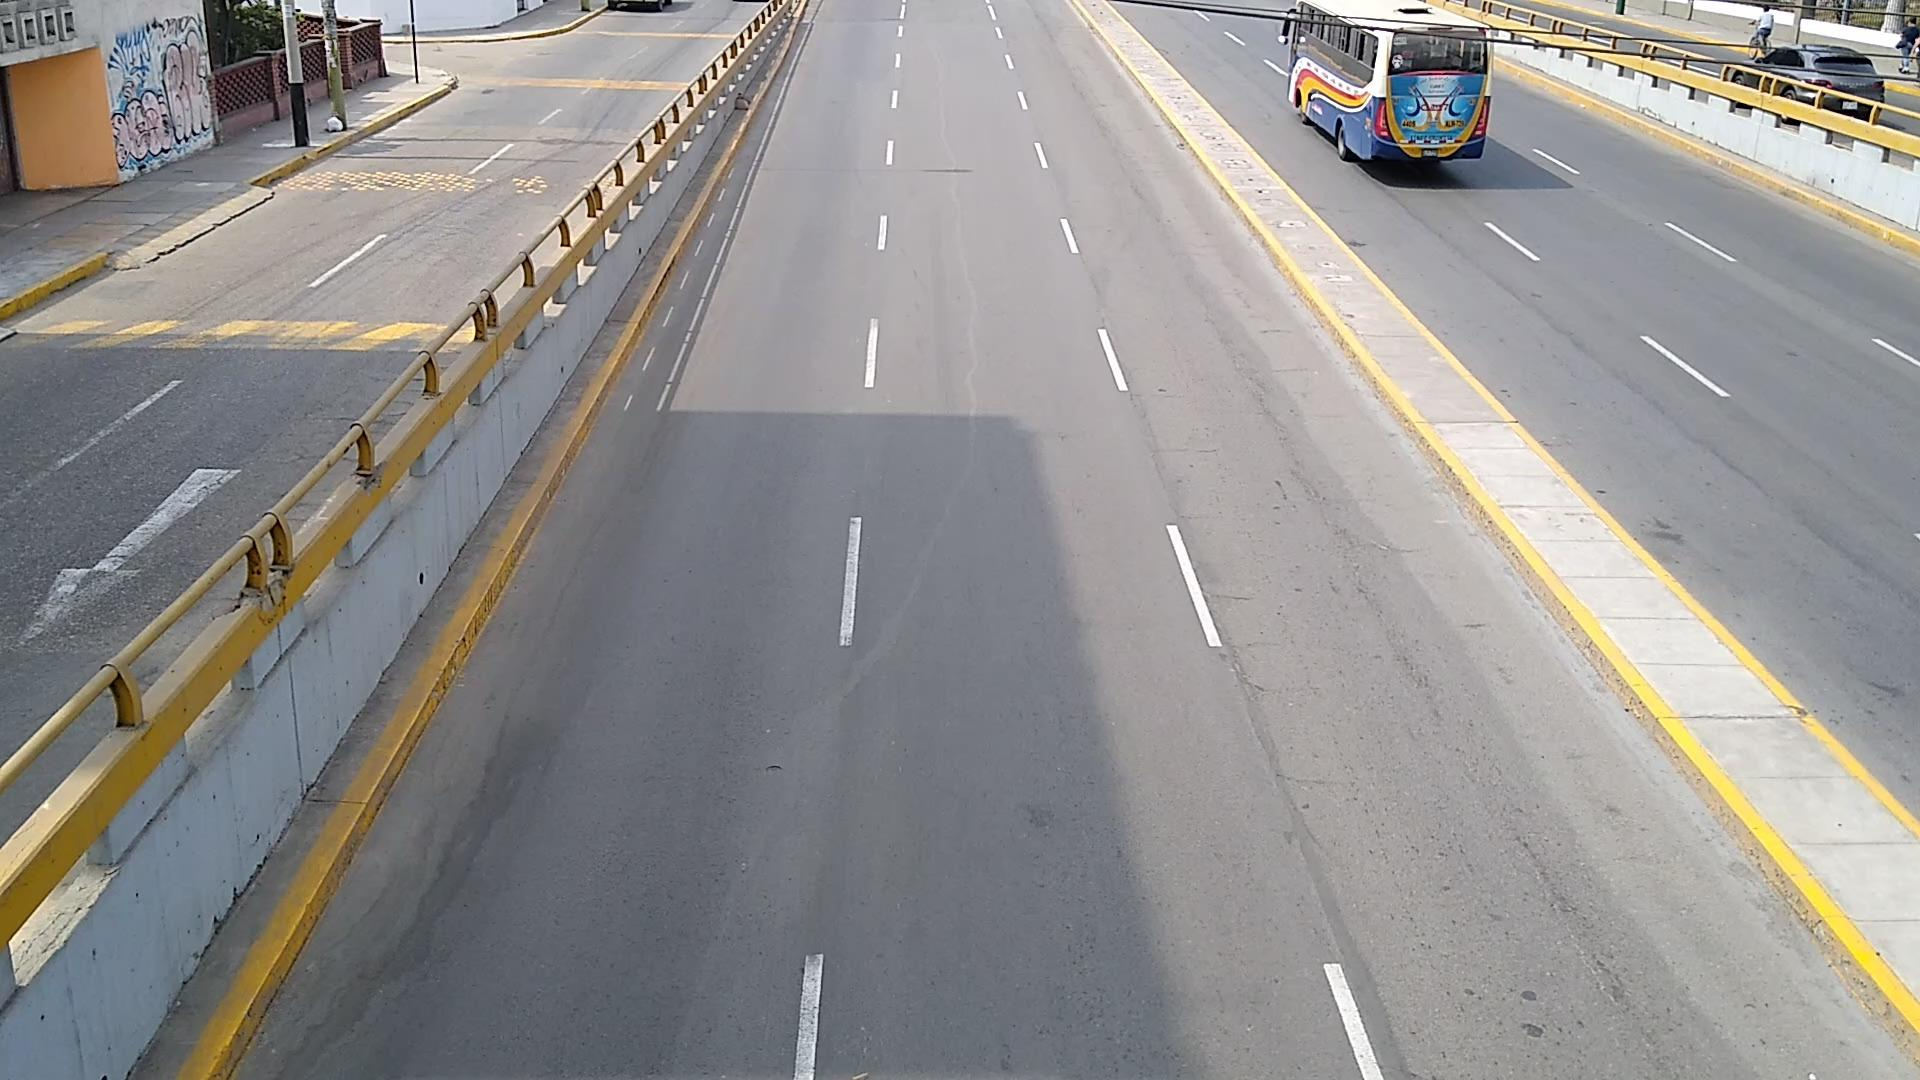bus: (1286, 0, 1493, 161)
car: (1755, 45, 1886, 120)
